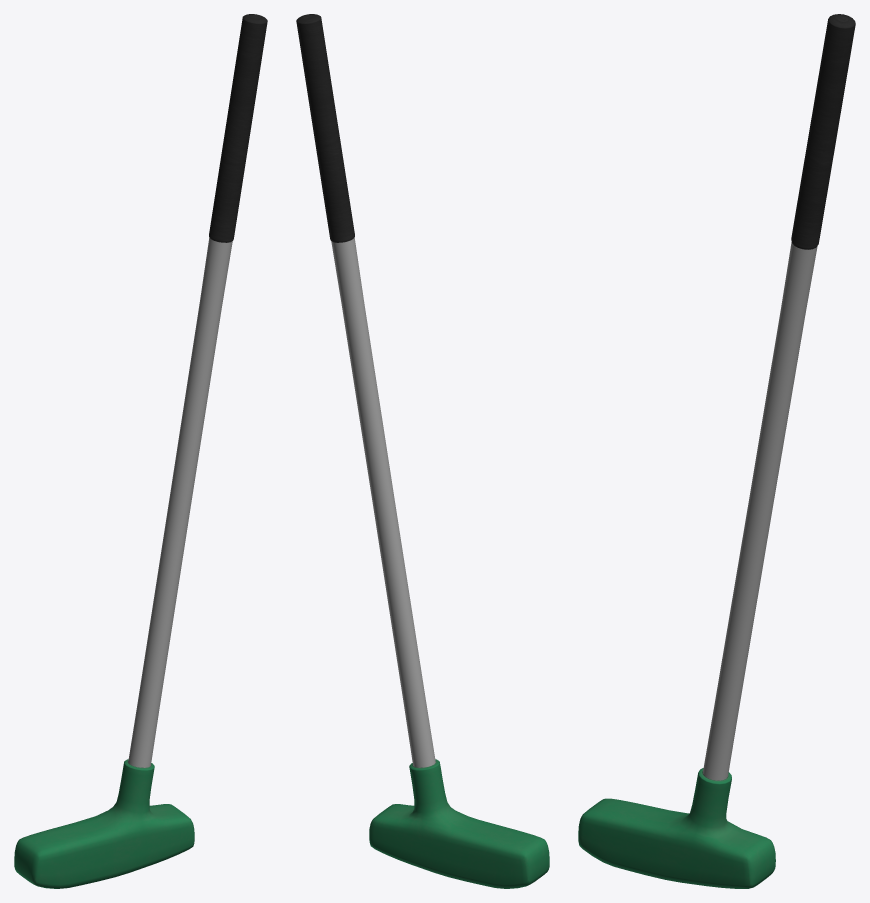
The model's file is putter.glb.
The picture shows the model from 3 angles, left to right: view 1: azimuth 30°, elevation 25°; view 2: azimuth 150°, elevation 25°; view 3: azimuth 330°, elevation 25°; orthographic projection. The views are drawn at different scales.
Parts seen in each view (by area): view 1: pCube2; view 2: pCube2; view 3: pCube2.
Part boxes in pixels (x1,y1,x2,y2): pCube2: (14, 14, 267, 888); pCube2: (296, 14, 549, 888); pCube2: (578, 14, 855, 888).
Bounding box in the file's own units: 0.056 × 0.1803 × 0.01.
Materials: 1 (1 with a texture image).
